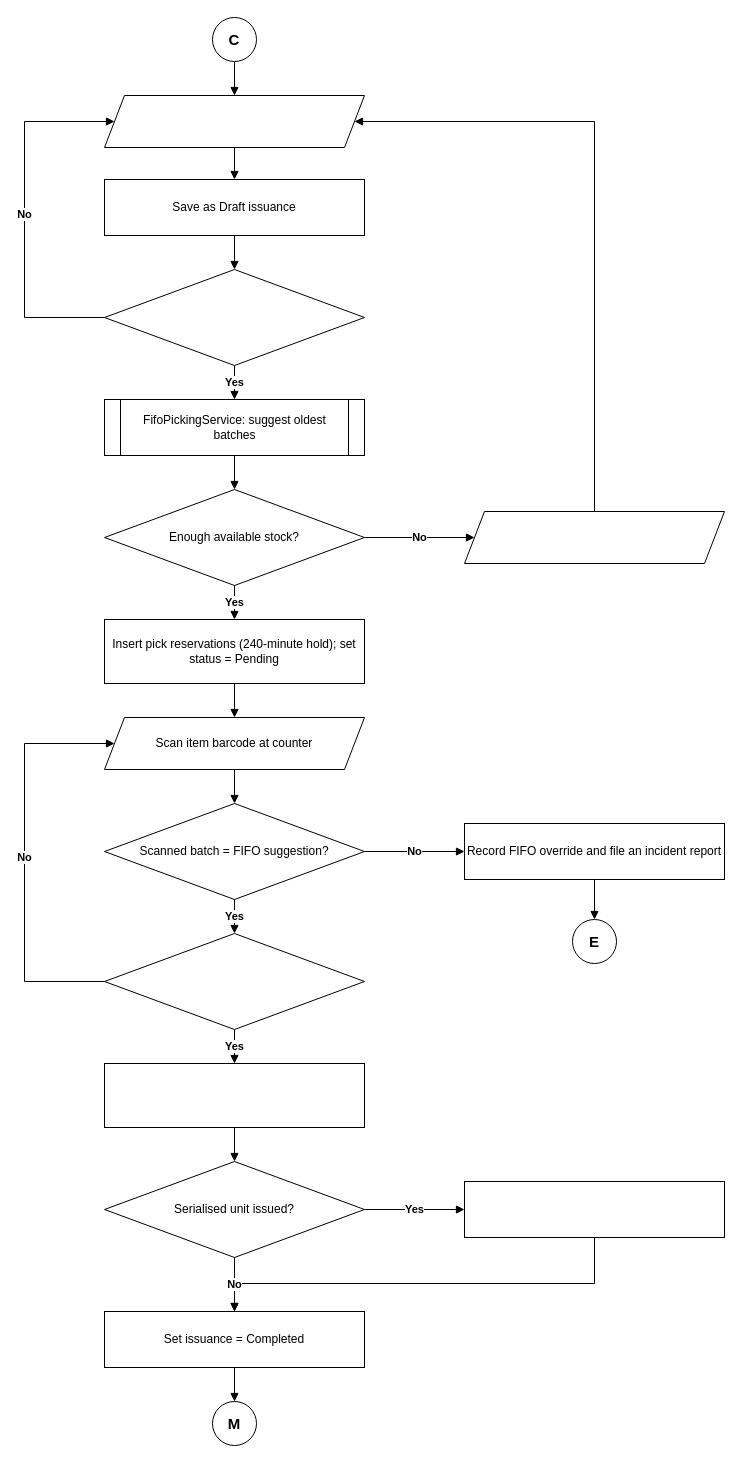
This 742x1463 diagram has some shape labels left out. The shapes that lost their labels are listed below. From the top down, each one's centre as x and y in pixels, then its label:
point 234,121: Select customer; add product sets or custom lines
point 234,317: Confirm the quote?
point 594,537: Display shortage; keep as Draft
point 234,981: All lines picked?
point 234,1095: Deduct quantity; release reservations; append batch movement records
point 594,1209: Create warranty record - status = Active
